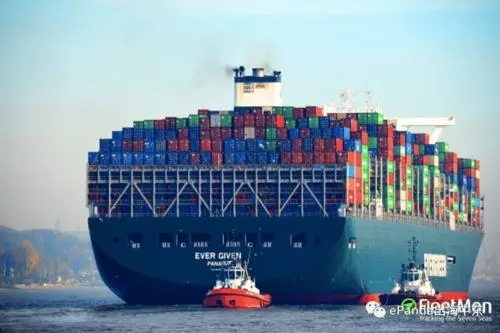Cargoship: (90, 62, 491, 300)
otherboat: (372, 237, 489, 306), (200, 263, 275, 308)
